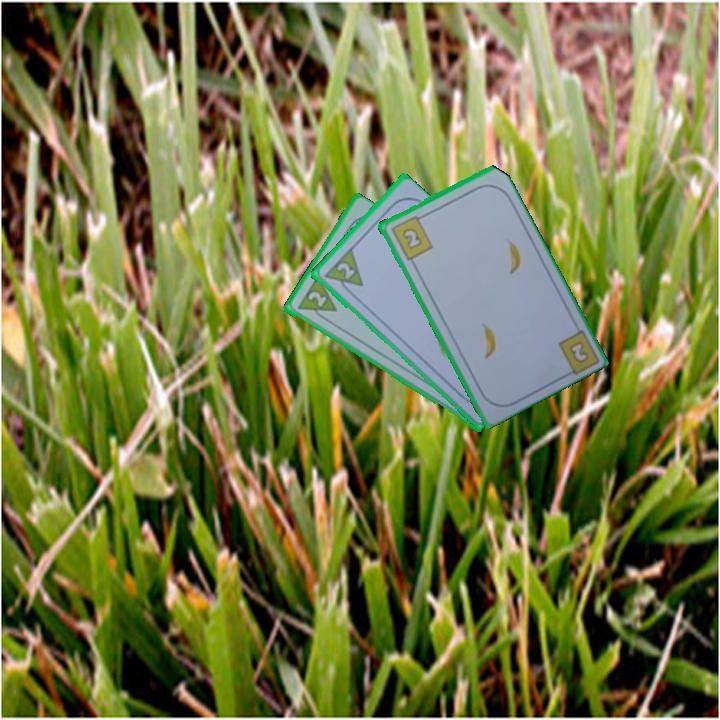2b: (387, 211, 435, 263), (567, 340, 590, 364)
2p: (293, 274, 339, 326), (333, 259, 357, 282)
